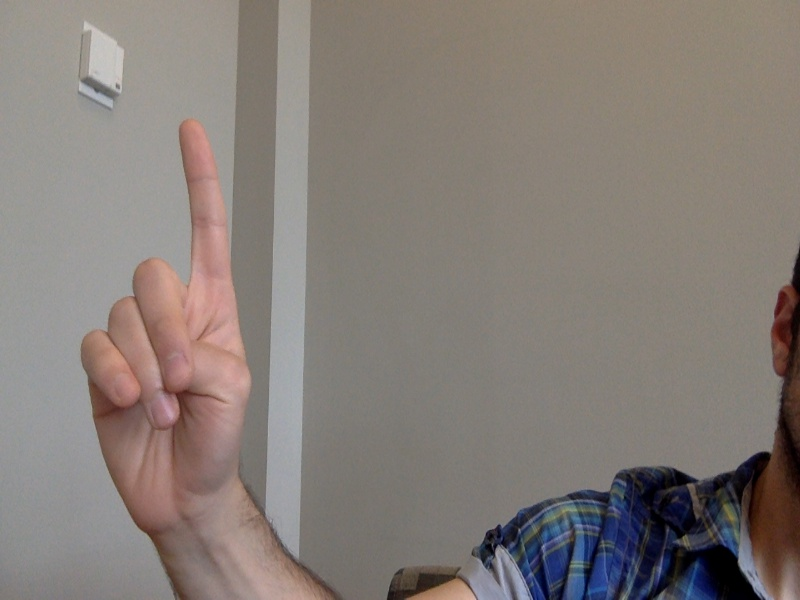1-hand: (82, 118, 254, 543)
